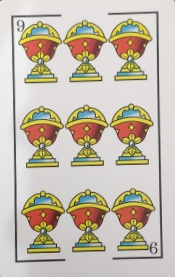9c: (10, 10, 159, 34)
